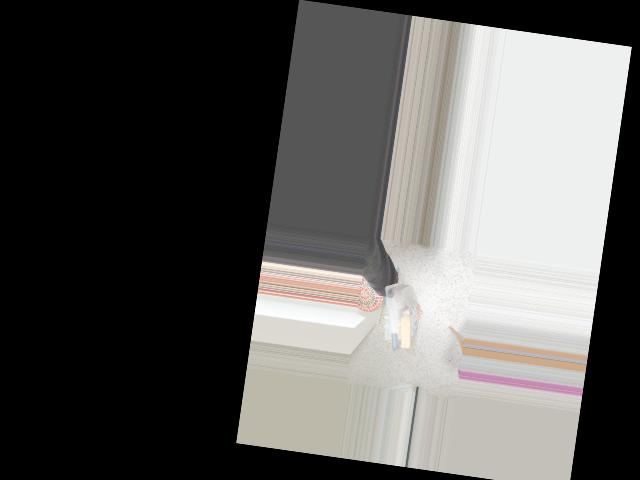cheese: (374, 281, 424, 353)
